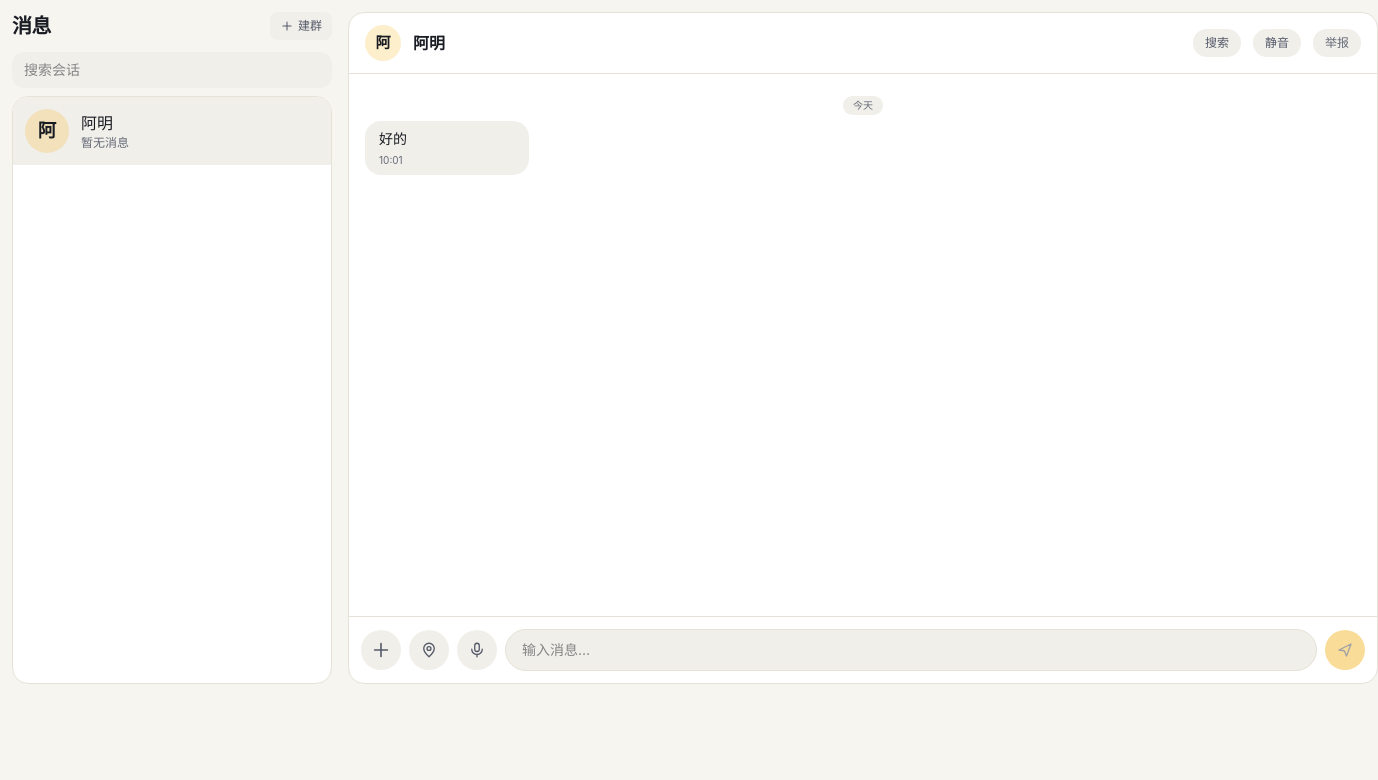
Test: ChatPage 线程消息气泡渲染（防字段漂移：按 kind 渲染内容） › 搜索结果打满上限(50)→如实标注"已显示最近 50 条匹配"；未打满→"找到 N 条"（no-silent-caps）
Check: the text "好的" is shown, box left=379, top=130, right=407, bottom=147
Click the button with aria-label "搜索消息".
click(1217, 43)  # box left=1193, top=29, right=1241, bottom=57
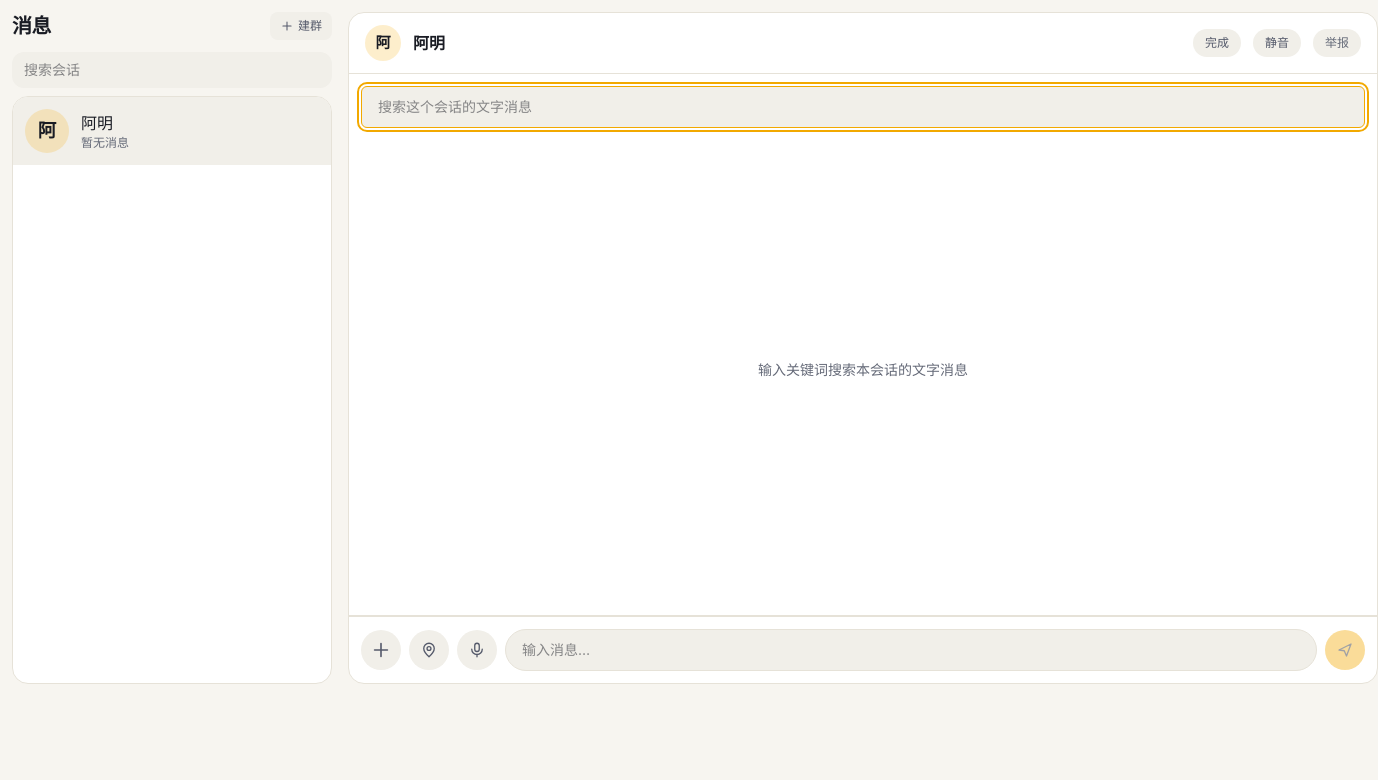
Type "幸福路" into the field with placeholder "搜索这个会话的文字消息".
click(863, 107); type("幸福路")  # box left=361, top=86, right=1365, bottom=128
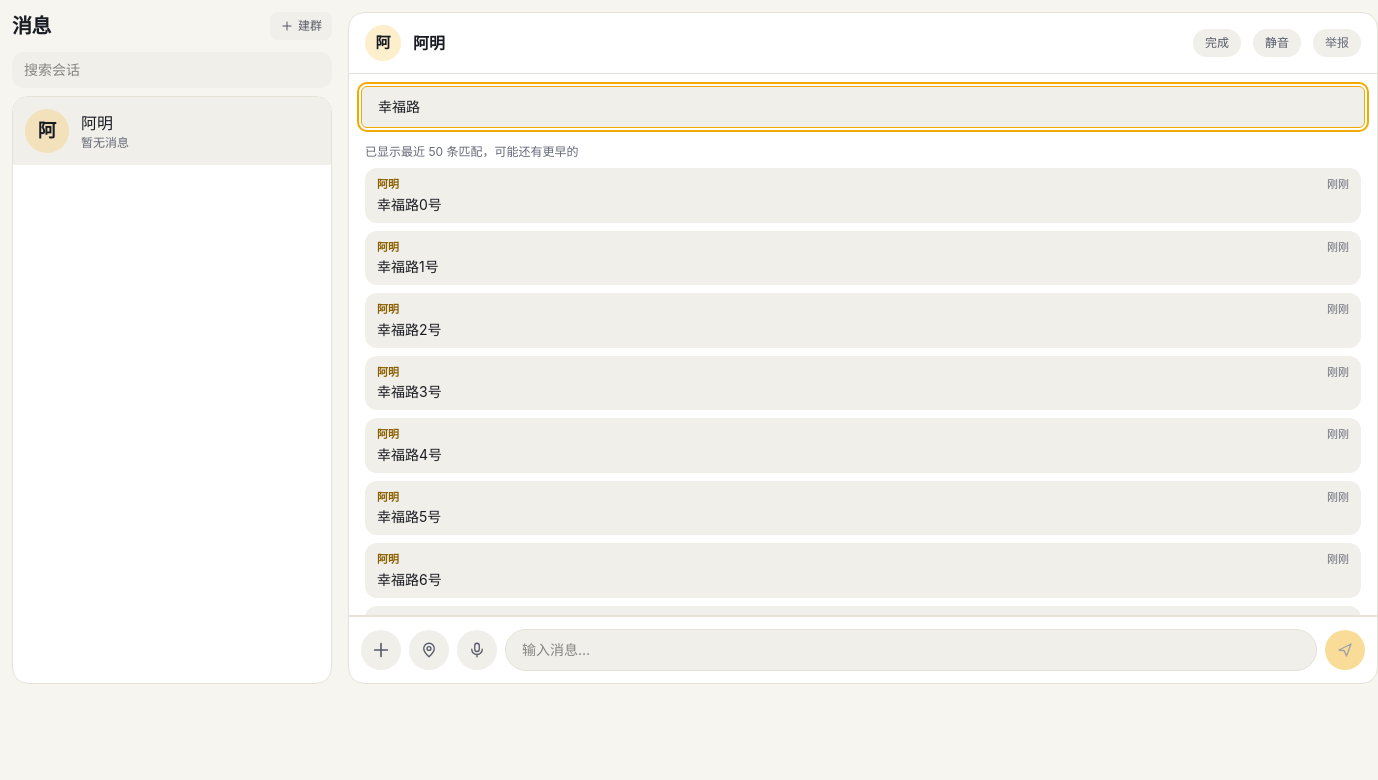
Check: the text "已显示最近 50 条匹配，可能还有更早的" is shown, box left=365, top=144, right=578, bottom=159
Replace the text in the field with placeholder "搜索这个会话的文字消息" with "幸福路真" at (863, 107), box left=361, top=86, right=1365, bottom=128
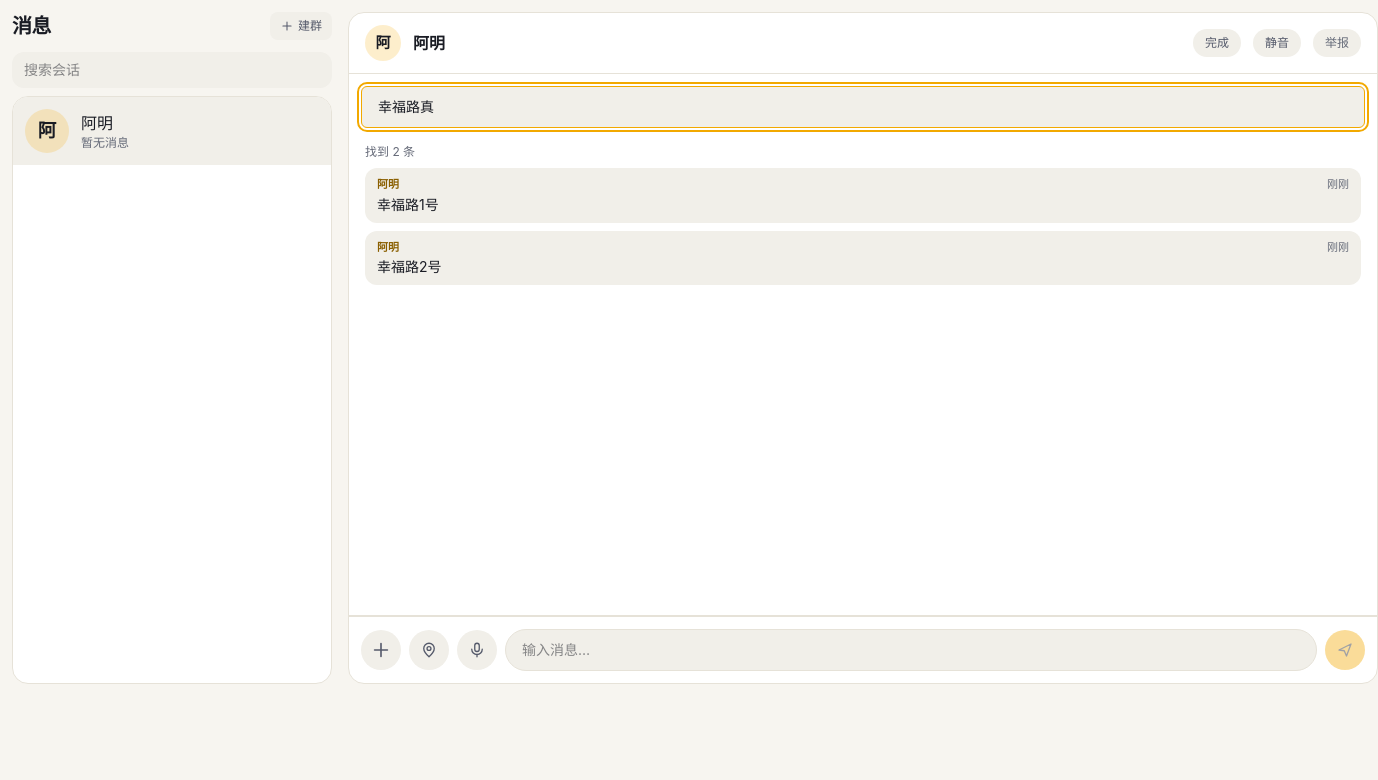
Check: the text "找到 2 条" is shown, box left=365, top=144, right=415, bottom=159
